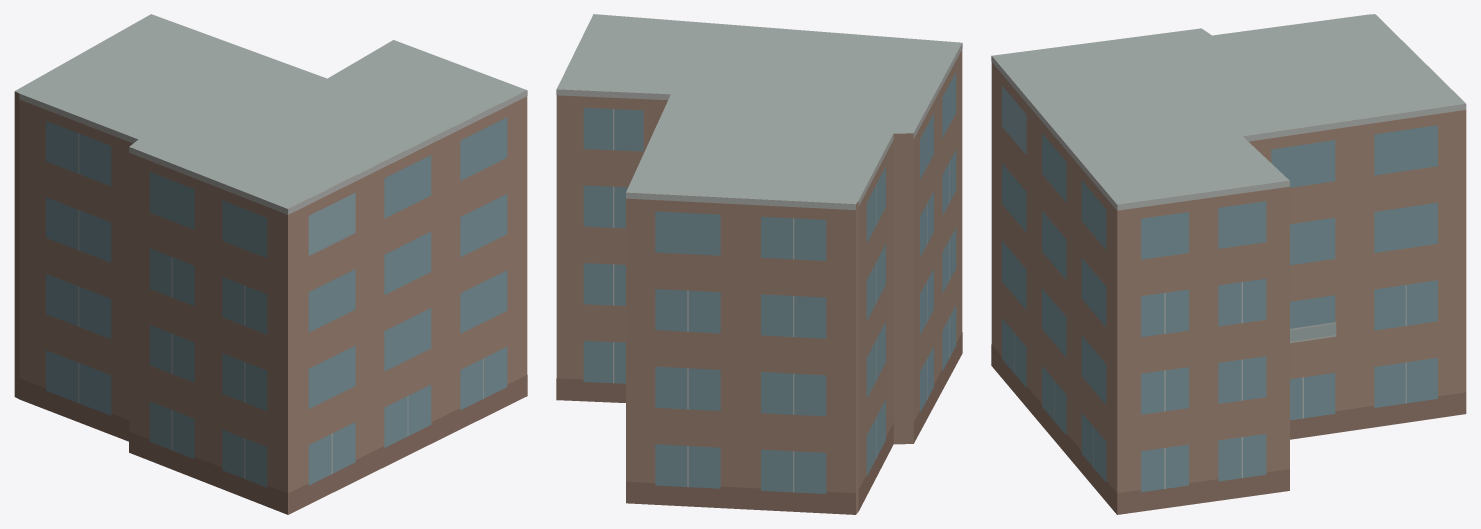
File: survey-upis-32613904.glb
3 views of the same model, side by side, from view 1: azimuth 30°, elevation 25°; view 2: azimuth 150°, elevation 25°; view 3: azimuth 270°, elevation 25° (orthographic).
Visible parts, largest first — view 1: survey-upis-32613904.tmp; view 2: survey-upis-32613904.tmp; view 3: survey-upis-32613904.tmp.
Part boxes in pixels (bbox=[...]): survey-upis-32613904.tmp: bbox=[14, 14, 527, 514]; survey-upis-32613904.tmp: bbox=[556, 14, 962, 514]; survey-upis-32613904.tmp: bbox=[991, 14, 1466, 514].
Bounding box in the file's own units: 16.77 × 12.7 × 17.63.
